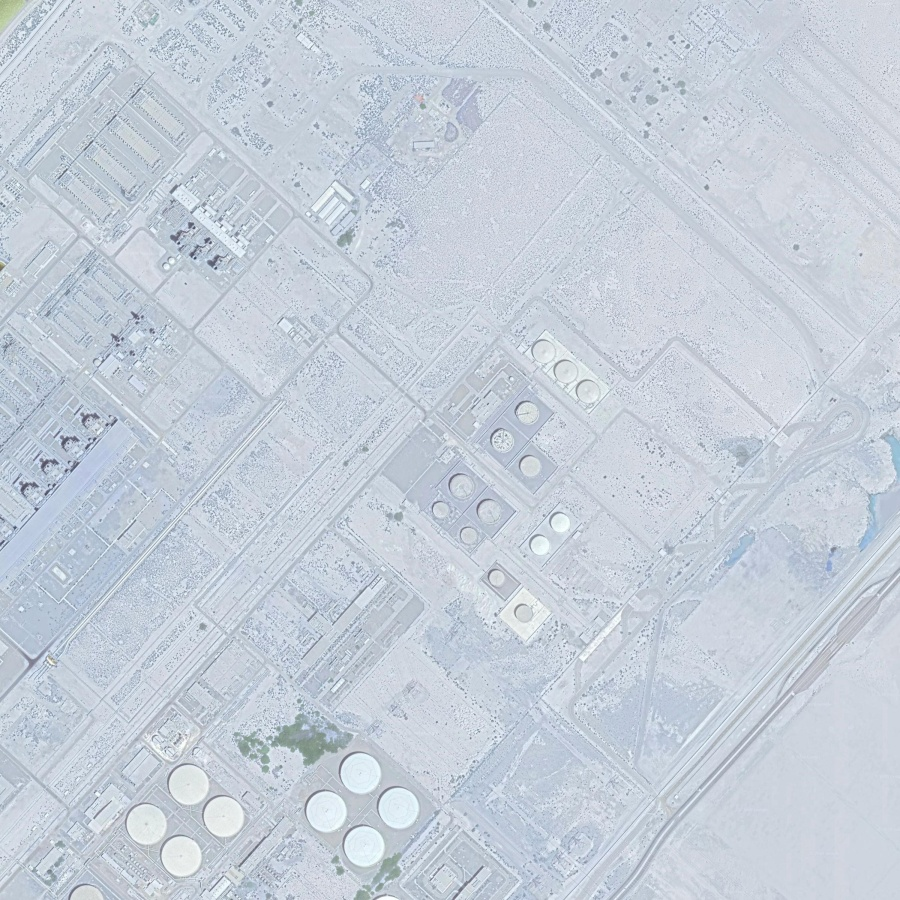PowerPlant: (420, 333, 632, 630)
